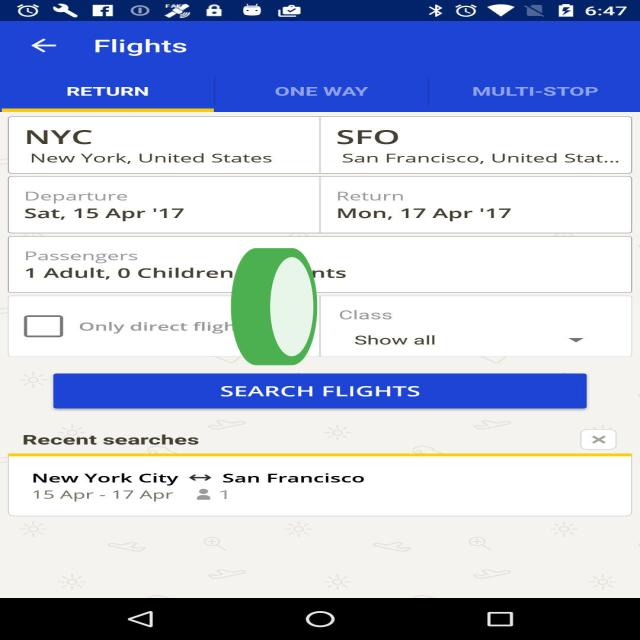social proof: (227, 203, 321, 419)
